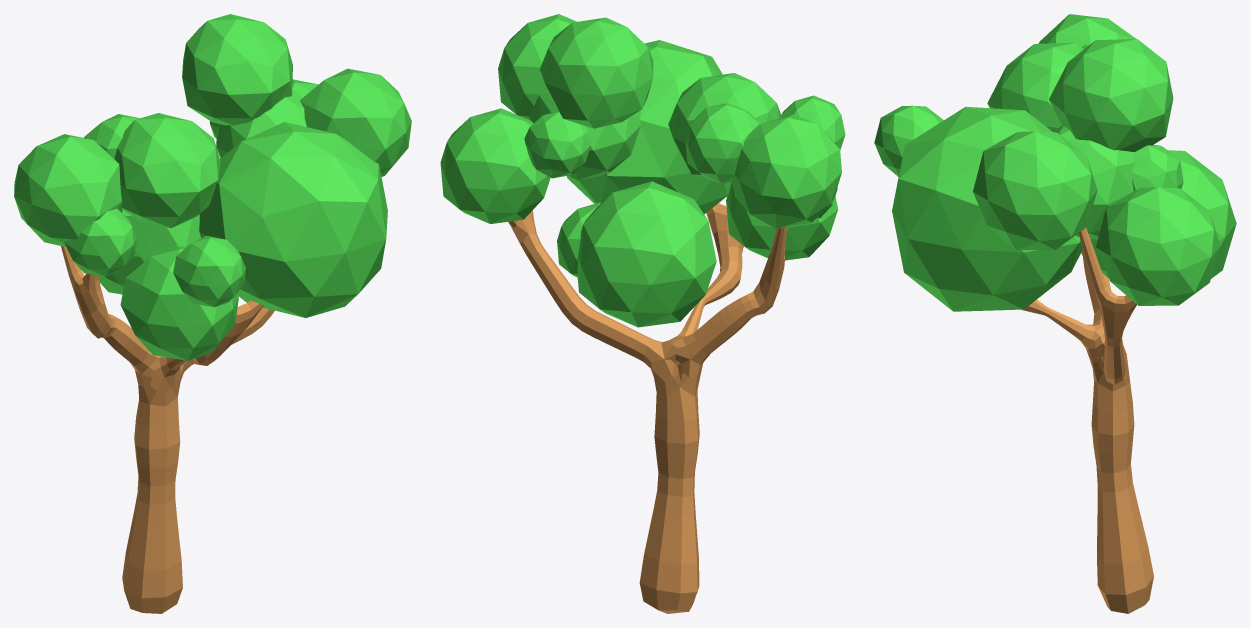
Rendered from tree poly.fbx.
The picture shows the model from 3 angles, left to right: view 1: azimuth 30°, elevation 25°; view 2: azimuth 150°, elevation 25°; view 3: azimuth 270°, elevation 25°; orthographic projection. The views are drawn at different scales.
Visible parts, largest first — view 1: Icosphere, Plane; view 2: Icosphere, Plane; view 3: Icosphere, Plane.
Boxes of the visible parts, <box> form: Icosphere: <box>14,14,411,360</box>; Plane: <box>61,246,274,613</box>; Icosphere: <box>440,14,845,327</box>; Plane: <box>508,203,786,613</box>; Icosphere: <box>874,14,1236,311</box>; Plane: <box>1021,228,1153,613</box>.
Size of the model in its own units: 704 by 1091 by 589.
